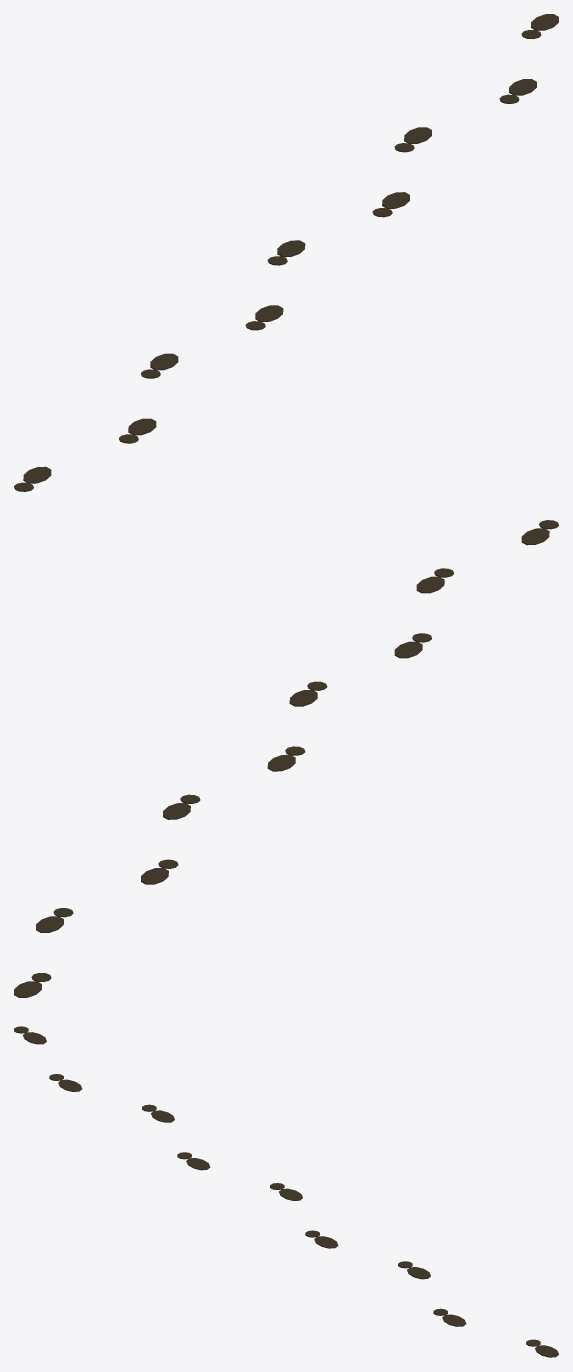
Rendered from Prop_Footprints.fbx.
The picture shows the model from 3 angles, top to bottom: view 1: azimuth 30°, elevation 25°; view 2: azimuth 210°, elevation 25°; view 3: azimuth 270°, elevation 25°; orthographic projection. The views are drawn at different scales.
Visible parts, largest first — view 1: Footprints_Mud; view 2: Footprints_Mud; view 3: Footprints_Mud.
Boxes of the visible parts, left/top/right/bottom form: Footprints_Mud: left=14, top=14, right=558, bottom=491; Footprints_Mud: left=14, top=520, right=558, bottom=997; Footprints_Mud: left=14, top=1026, right=558, bottom=1357.
Size of the model in its own units: 3.59 by 0.004 by 2.5.
